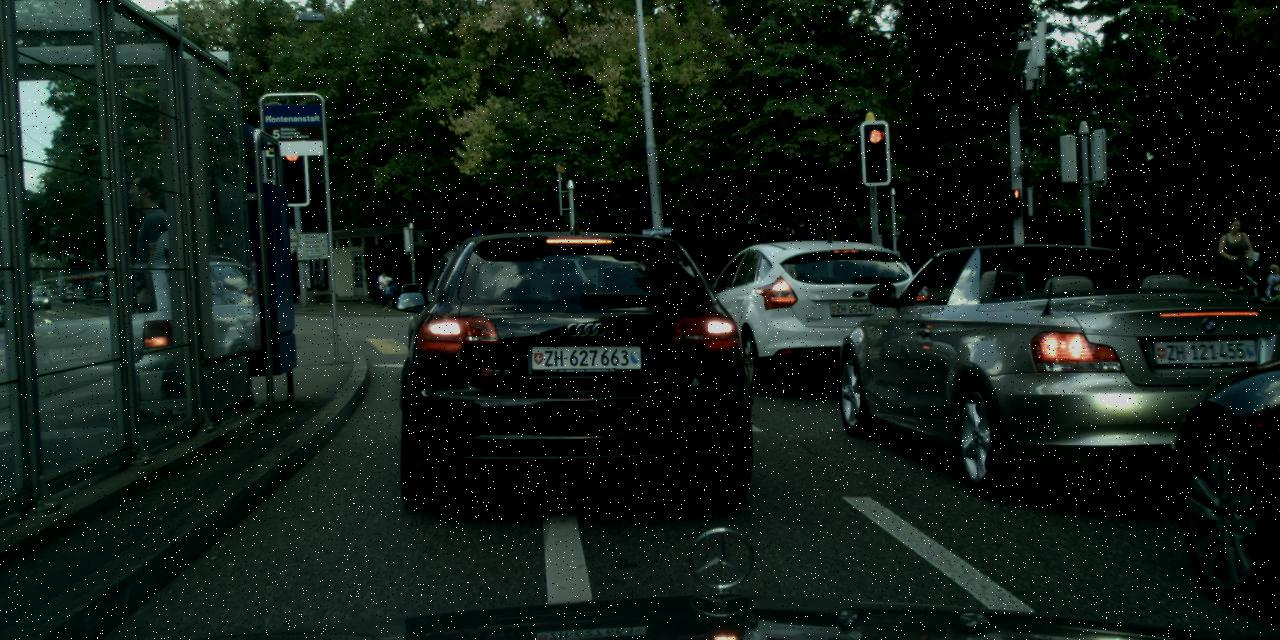ped: (1214, 217, 1254, 312), (376, 271, 392, 308)
